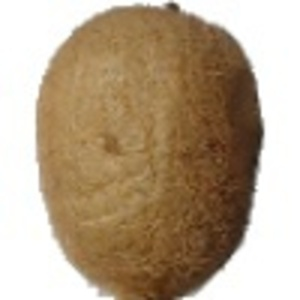kiwi: (34, 1, 266, 300)
